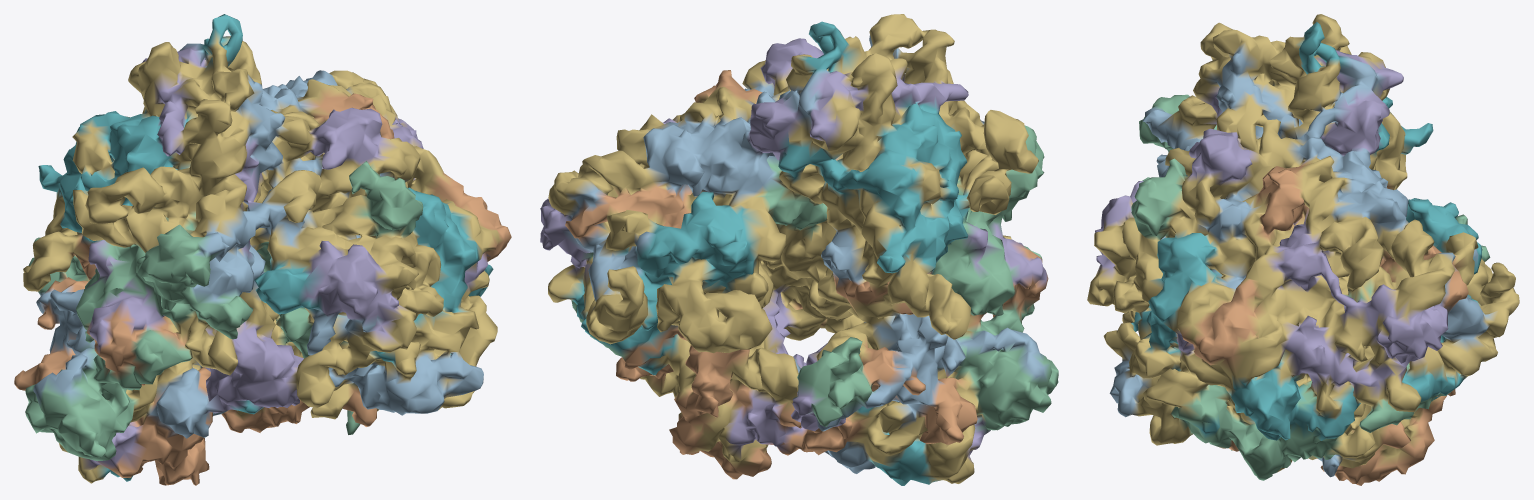
The model's file is pdb-4v88-ribosome.glb.
The picture shows the model from 3 angles, left to right: view 1: azimuth 30°, elevation 25°; view 2: azimuth 150°, elevation 25°; view 3: azimuth 270°, elevation 25°; orthographic projection. The views are drawn at different scales.
Visible parts, largest first — view 1: Ribosome; view 2: Ribosome; view 3: Ribosome.
Boxes of the visible parts, <box> form: Ribosome: <box>14,14,511,485</box>; Ribosome: <box>540,14,1058,485</box>; Ribosome: <box>1087,14,1519,485</box>.
Bounding box in the file's own units: 28.94 × 27.64 × 25.29.
